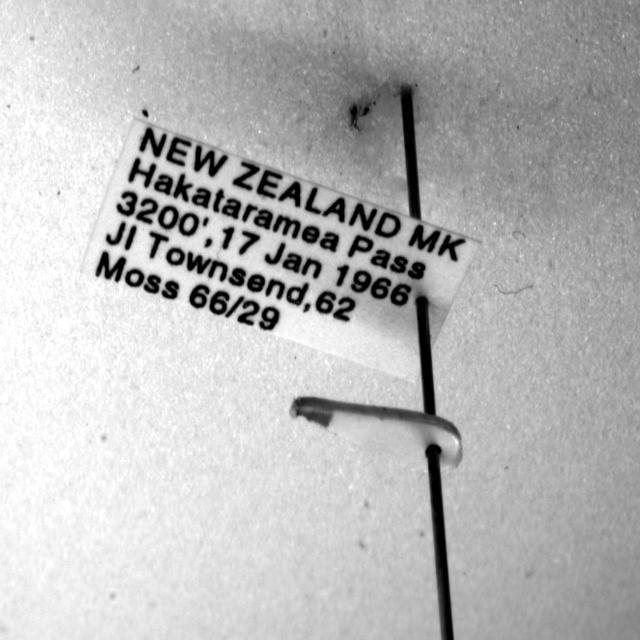typed_label: (82, 120, 479, 381)
